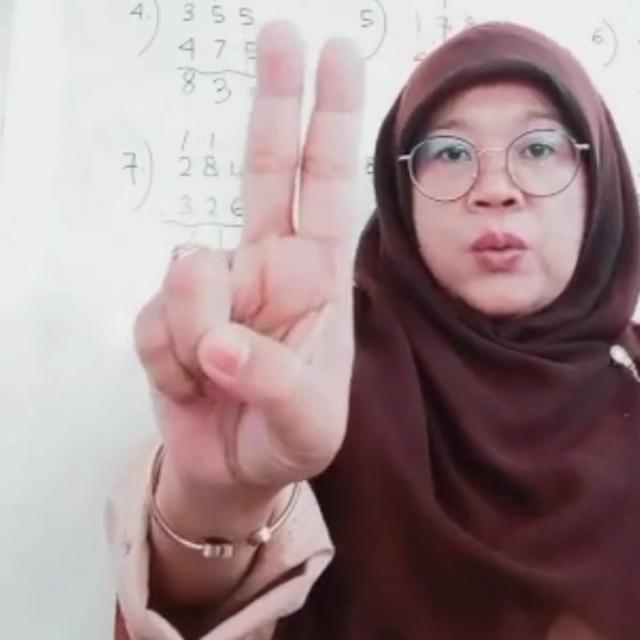U: (126, 18, 372, 480)
